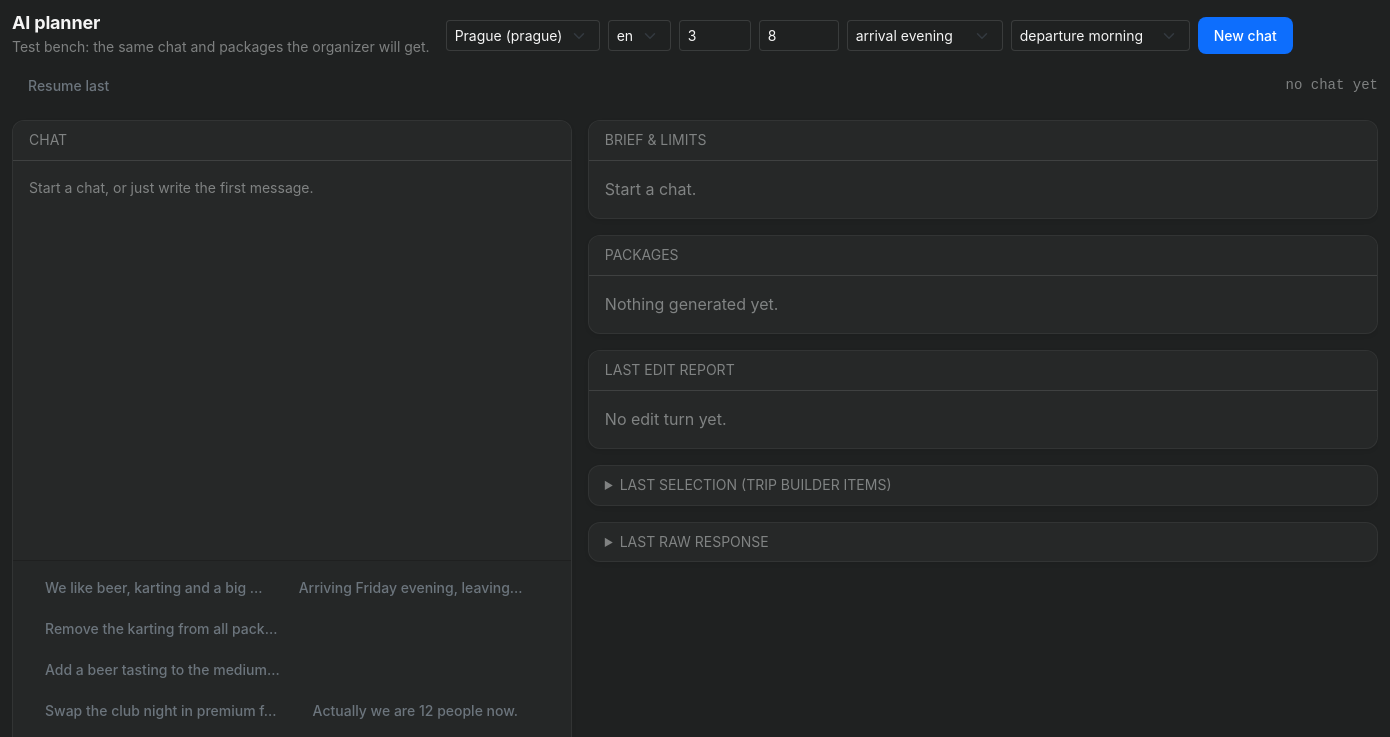
Scenario: New chat opens a session and shows the greeting, the missing fields and the limits
Click the button "New chat".
click(1245, 36)  # box [1198,17,1293,54]
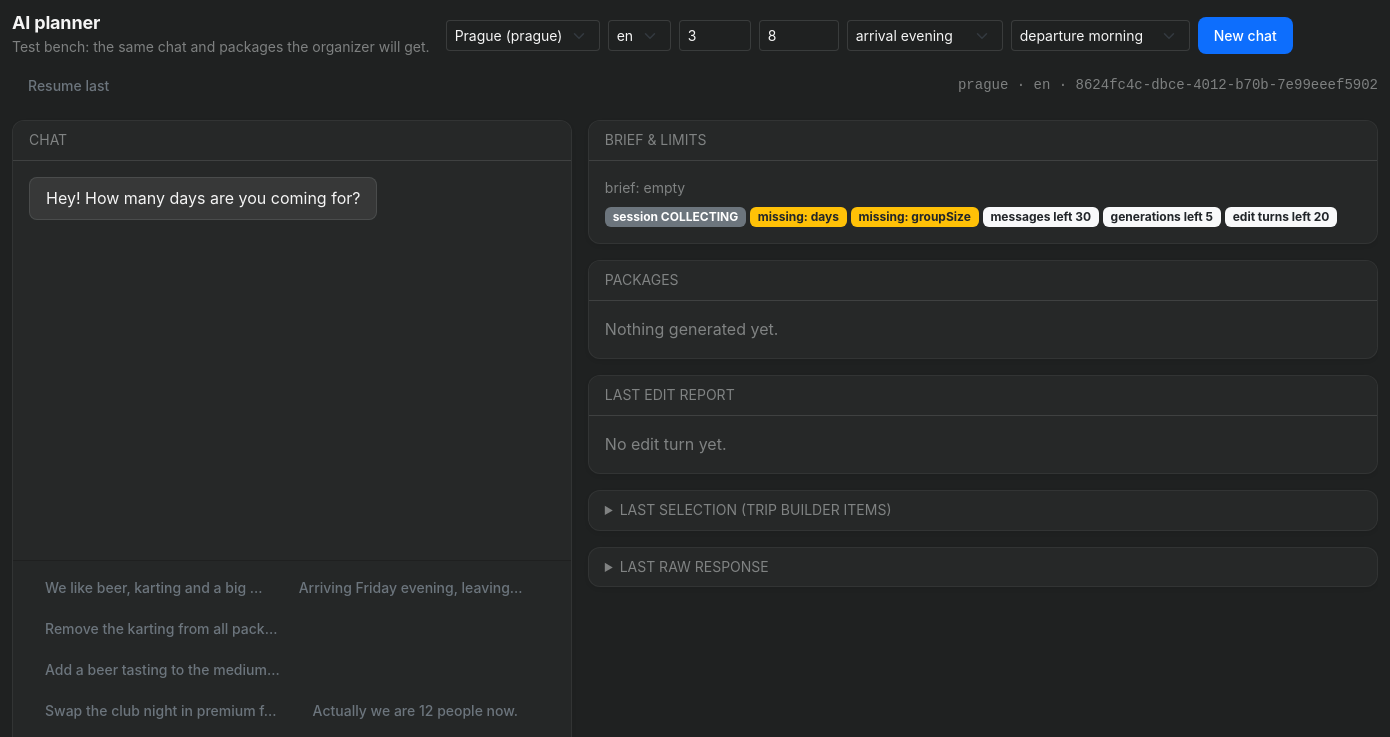
Now the text "Hey! How many days are you coming for?" is shown, box [29,177,377,220]
Now the text "missing: days" is shown, box [750,207,847,227]
Now the text "messages left 30" is shown, box [983,207,1099,227]
